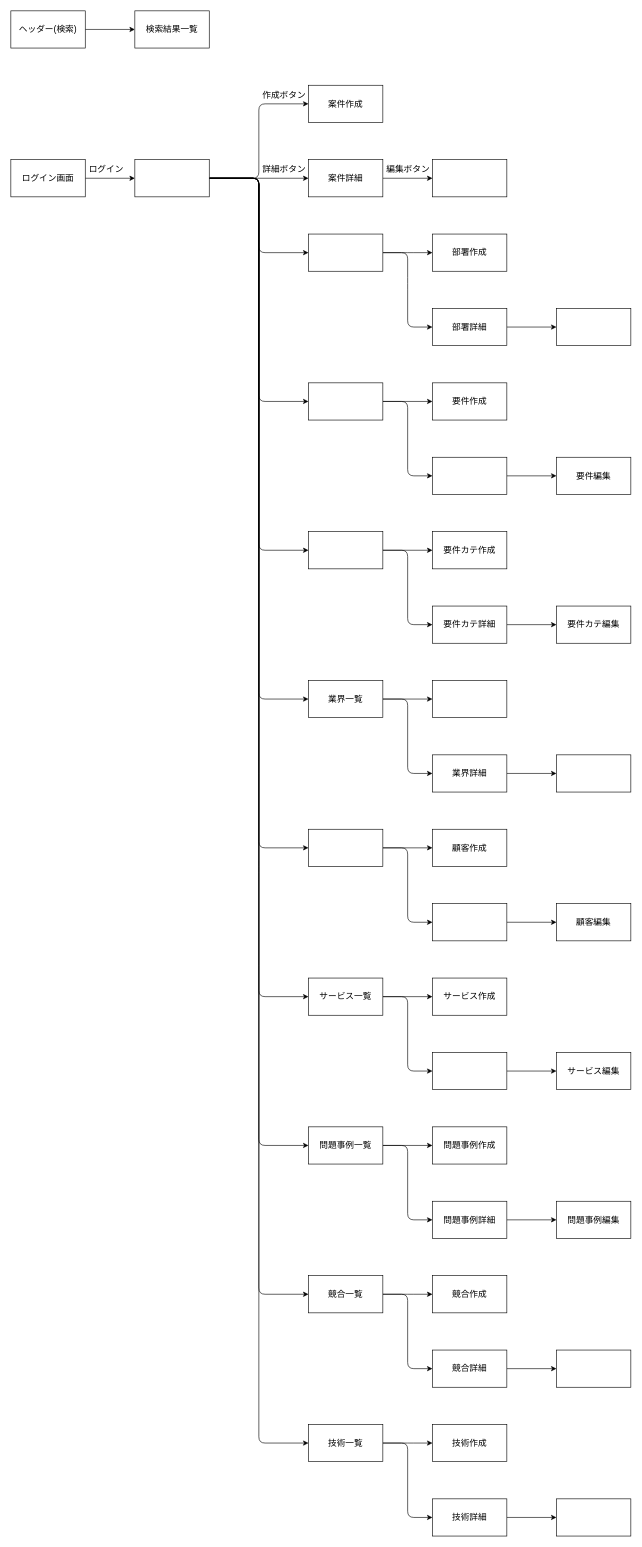
This 642x1547 diagram has some shape labels left out. Each missing label, with the centre of its shape:
"サービス詳細" belongs at point (469, 1071).
"技術編集" belongs at point (593, 1517).
"案件一覧" belongs at point (171, 178).
"案件編集" belongs at point (469, 178).
"業界作成" belongs at point (469, 699).
"業界編集" belongs at point (593, 773).
"競合編集" belongs at point (593, 1368).
"要件カテ一覧" belongs at point (345, 550).
"要件一覧" belongs at point (345, 401).
"要件詳細" belongs at point (469, 475).
"部署一覧" belongs at point (345, 252).
"部署編集" belongs at point (593, 327).
"顧客一覧" belongs at point (345, 847).
"顧客詳細" belongs at point (469, 922).
